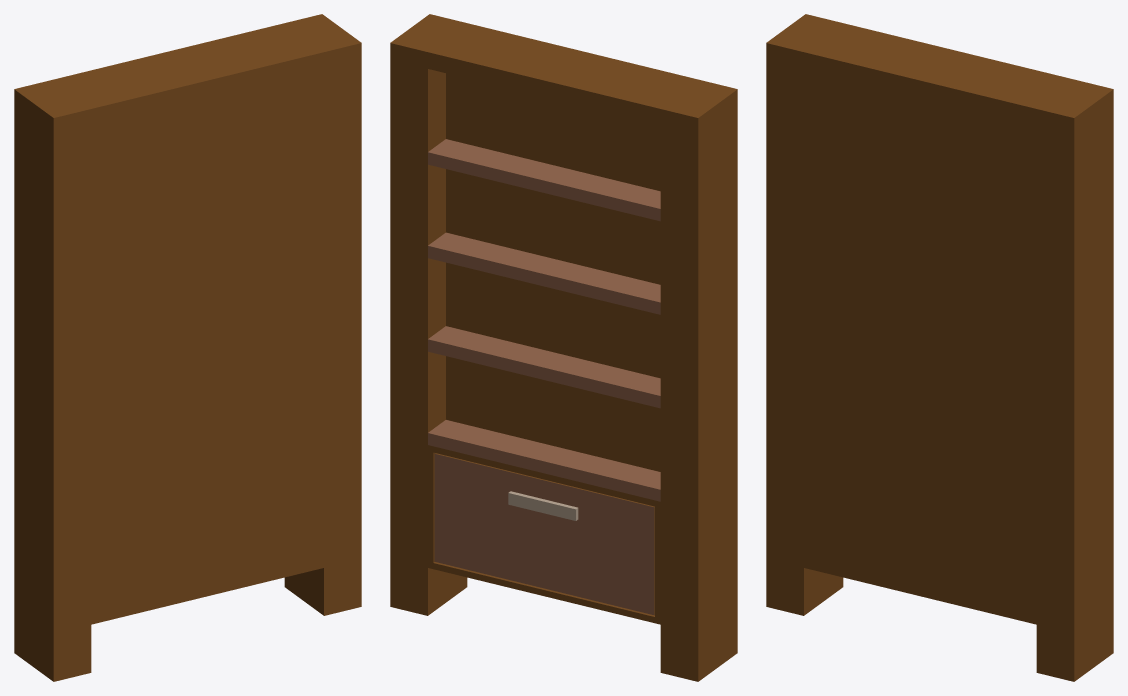
The model's file is classic book shelf.fbx.
3 renders of one model, left to right at view 1: azimuth 30°, elevation 25°; view 2: azimuth 150°, elevation 25°; view 3: azimuth 330°, elevation 25°, orthographic.
Parts seen in each view (by area): view 1: classic book shelf; view 2: classic book shelf; view 3: classic book shelf.
Boxes of the visible parts, <box> form: classic book shelf: <box>14,14,361,681</box>; classic book shelf: <box>390,14,737,681</box>; classic book shelf: <box>766,14,1113,681</box>.
Bounding box in the file's own units: 110 × 193 × 25.8.
1 material, 1 textured.
